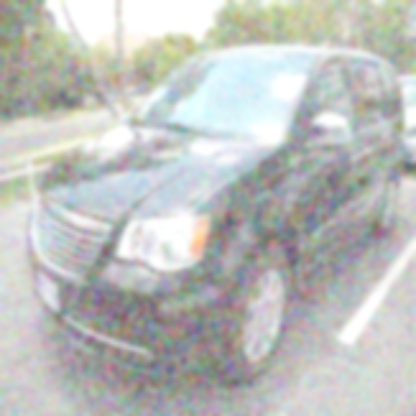Vehicle: (19, 36, 416, 395)
